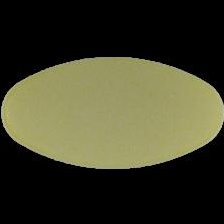50268-523: (0, 0, 224, 224)
